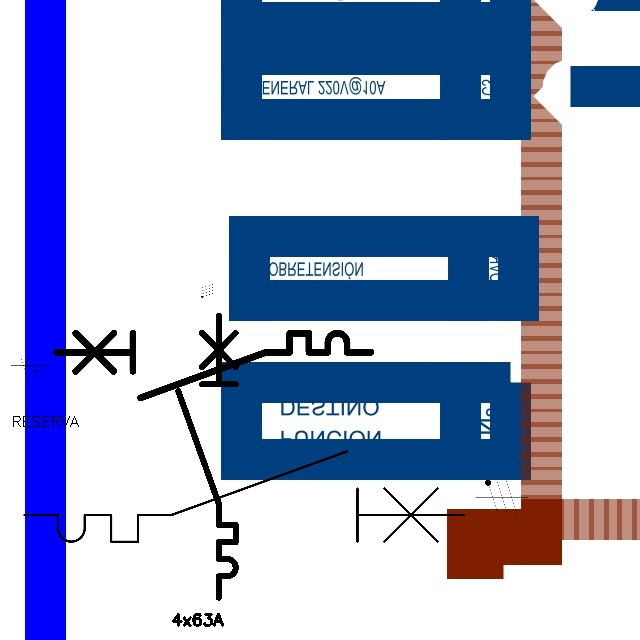interruptor_termomagnetico: (13, 440, 475, 553), (48, 325, 378, 406), (171, 308, 243, 605)
